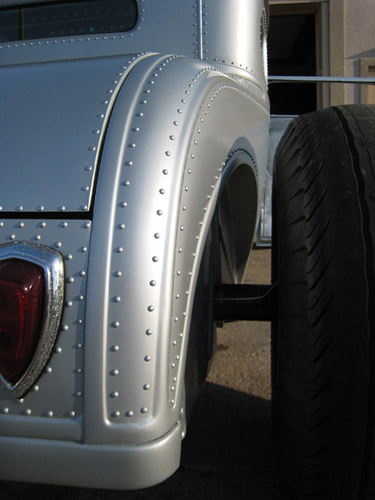rivet: (112, 295, 122, 303), (111, 321, 121, 329), (111, 345, 121, 353), (110, 391, 120, 399), (120, 200, 128, 209), (125, 410, 134, 418), (114, 270, 123, 278), (111, 369, 120, 377), (112, 410, 121, 418), (156, 209, 164, 217), (62, 324, 70, 332), (55, 346, 63, 354), (46, 410, 54, 418), (33, 384, 41, 392), (25, 408, 33, 416), (2, 406, 10, 414), (140, 406, 148, 414), (162, 168, 169, 176), (159, 188, 166, 196), (154, 232, 161, 240), (152, 256, 159, 264), (94, 129, 102, 136), (86, 165, 94, 172), (38, 206, 46, 213), (61, 222, 69, 229), (55, 242, 63, 249), (67, 277, 75, 284), (45, 366, 53, 373), (69, 410, 76, 418), (144, 356, 152, 363), (145, 330, 153, 337), (148, 305, 155, 313), (177, 109, 184, 116), (169, 135, 176, 142), (117, 247, 124, 254), (119, 224, 126, 231), (123, 180, 130, 187), (127, 161, 134, 168), (90, 146, 97, 153), (83, 186, 90, 193), (60, 205, 67, 212), (82, 205, 89, 212), (19, 222, 26, 229), (10, 234, 17, 241), (36, 234, 43, 241), (144, 384, 151, 391), (149, 280, 156, 287), (40, 222, 48, 228), (184, 186, 190, 193), (175, 292, 181, 299), (173, 121, 179, 128), (165, 151, 171, 158), (130, 143, 137, 149), (17, 206, 24, 212), (84, 223, 91, 229), (81, 247, 88, 253), (80, 271, 87, 277), (66, 301, 73, 307), (76, 343, 83, 349), (76, 367, 83, 373), (77, 390, 83, 397), (18, 398, 25, 404), (181, 205, 187, 211), (181, 99, 187, 105), (67, 254, 73, 260), (79, 295, 85, 301), (78, 319, 84, 325), (196, 128, 201, 135), (178, 247, 183, 254), (187, 272, 194, 277), (98, 115, 105, 120), (138, 113, 145, 118), (190, 154, 195, 160), (188, 169, 193, 175), (192, 252, 197, 258), (195, 236, 201, 241), (198, 221, 203, 227), (203, 207, 208, 213), (180, 226, 185, 232), (177, 270, 182, 276), (183, 311, 188, 317), (179, 332, 184, 338), (176, 354, 181, 360), (171, 363, 176, 369), (173, 376, 178, 382), (171, 399, 176, 405), (142, 101, 148, 106), (134, 128, 140, 133), (102, 101, 109, 105), (218, 168, 223, 173), (215, 177, 220, 182), (158, 67, 163, 72), (185, 291, 190, 296), (174, 317, 179, 322), (171, 386, 176, 391), (185, 91, 190, 96), (150, 81, 155, 86), (146, 89, 151, 94), (203, 111, 207, 117), (194, 140, 198, 146), (173, 340, 177, 346), (206, 104, 210, 109), (123, 67, 128, 71), (113, 81, 118, 85), (110, 90, 114, 95), (189, 84, 193, 89), (200, 119, 204, 124), (211, 185, 215, 190), (207, 195, 211, 200), (154, 74, 159, 78), (132, 57, 136, 61), (193, 79, 197, 83), (162, 63, 166, 67), (54, 41, 58, 45), (205, 58, 209, 62), (205, 50, 209, 54), (204, 41, 208, 45), (194, 42, 198, 46), (193, 5, 197, 9), (62, 40, 66, 44), (137, 28, 141, 32), (129, 34, 133, 38), (120, 36, 124, 40), (112, 37, 116, 41), (103, 38, 107, 42), (95, 38, 99, 42), (70, 40, 74, 44), (231, 62, 234, 66), (223, 60, 226, 64), (196, 75, 199, 79), (129, 61, 132, 65), (15, 44, 18, 48), (38, 43, 41, 47), (46, 42, 49, 46), (204, 32, 208, 35), (204, 14, 208, 17), (205, 5, 208, 9), (195, 51, 198, 55), (194, 33, 197, 37), (194, 25, 198, 28), (141, 10, 145, 13), (87, 38, 90, 42), (79, 39, 82, 43), (119, 74, 123, 77), (246, 67, 249, 70), (240, 65, 243, 68), (166, 60, 169, 63), (7, 46, 10, 49), (23, 44, 26, 47), (30, 44, 33, 47), (215, 59, 218, 62), (204, 23, 207, 26), (194, 15, 197, 18), (142, 20, 145, 23), (251, 70, 253, 73)
